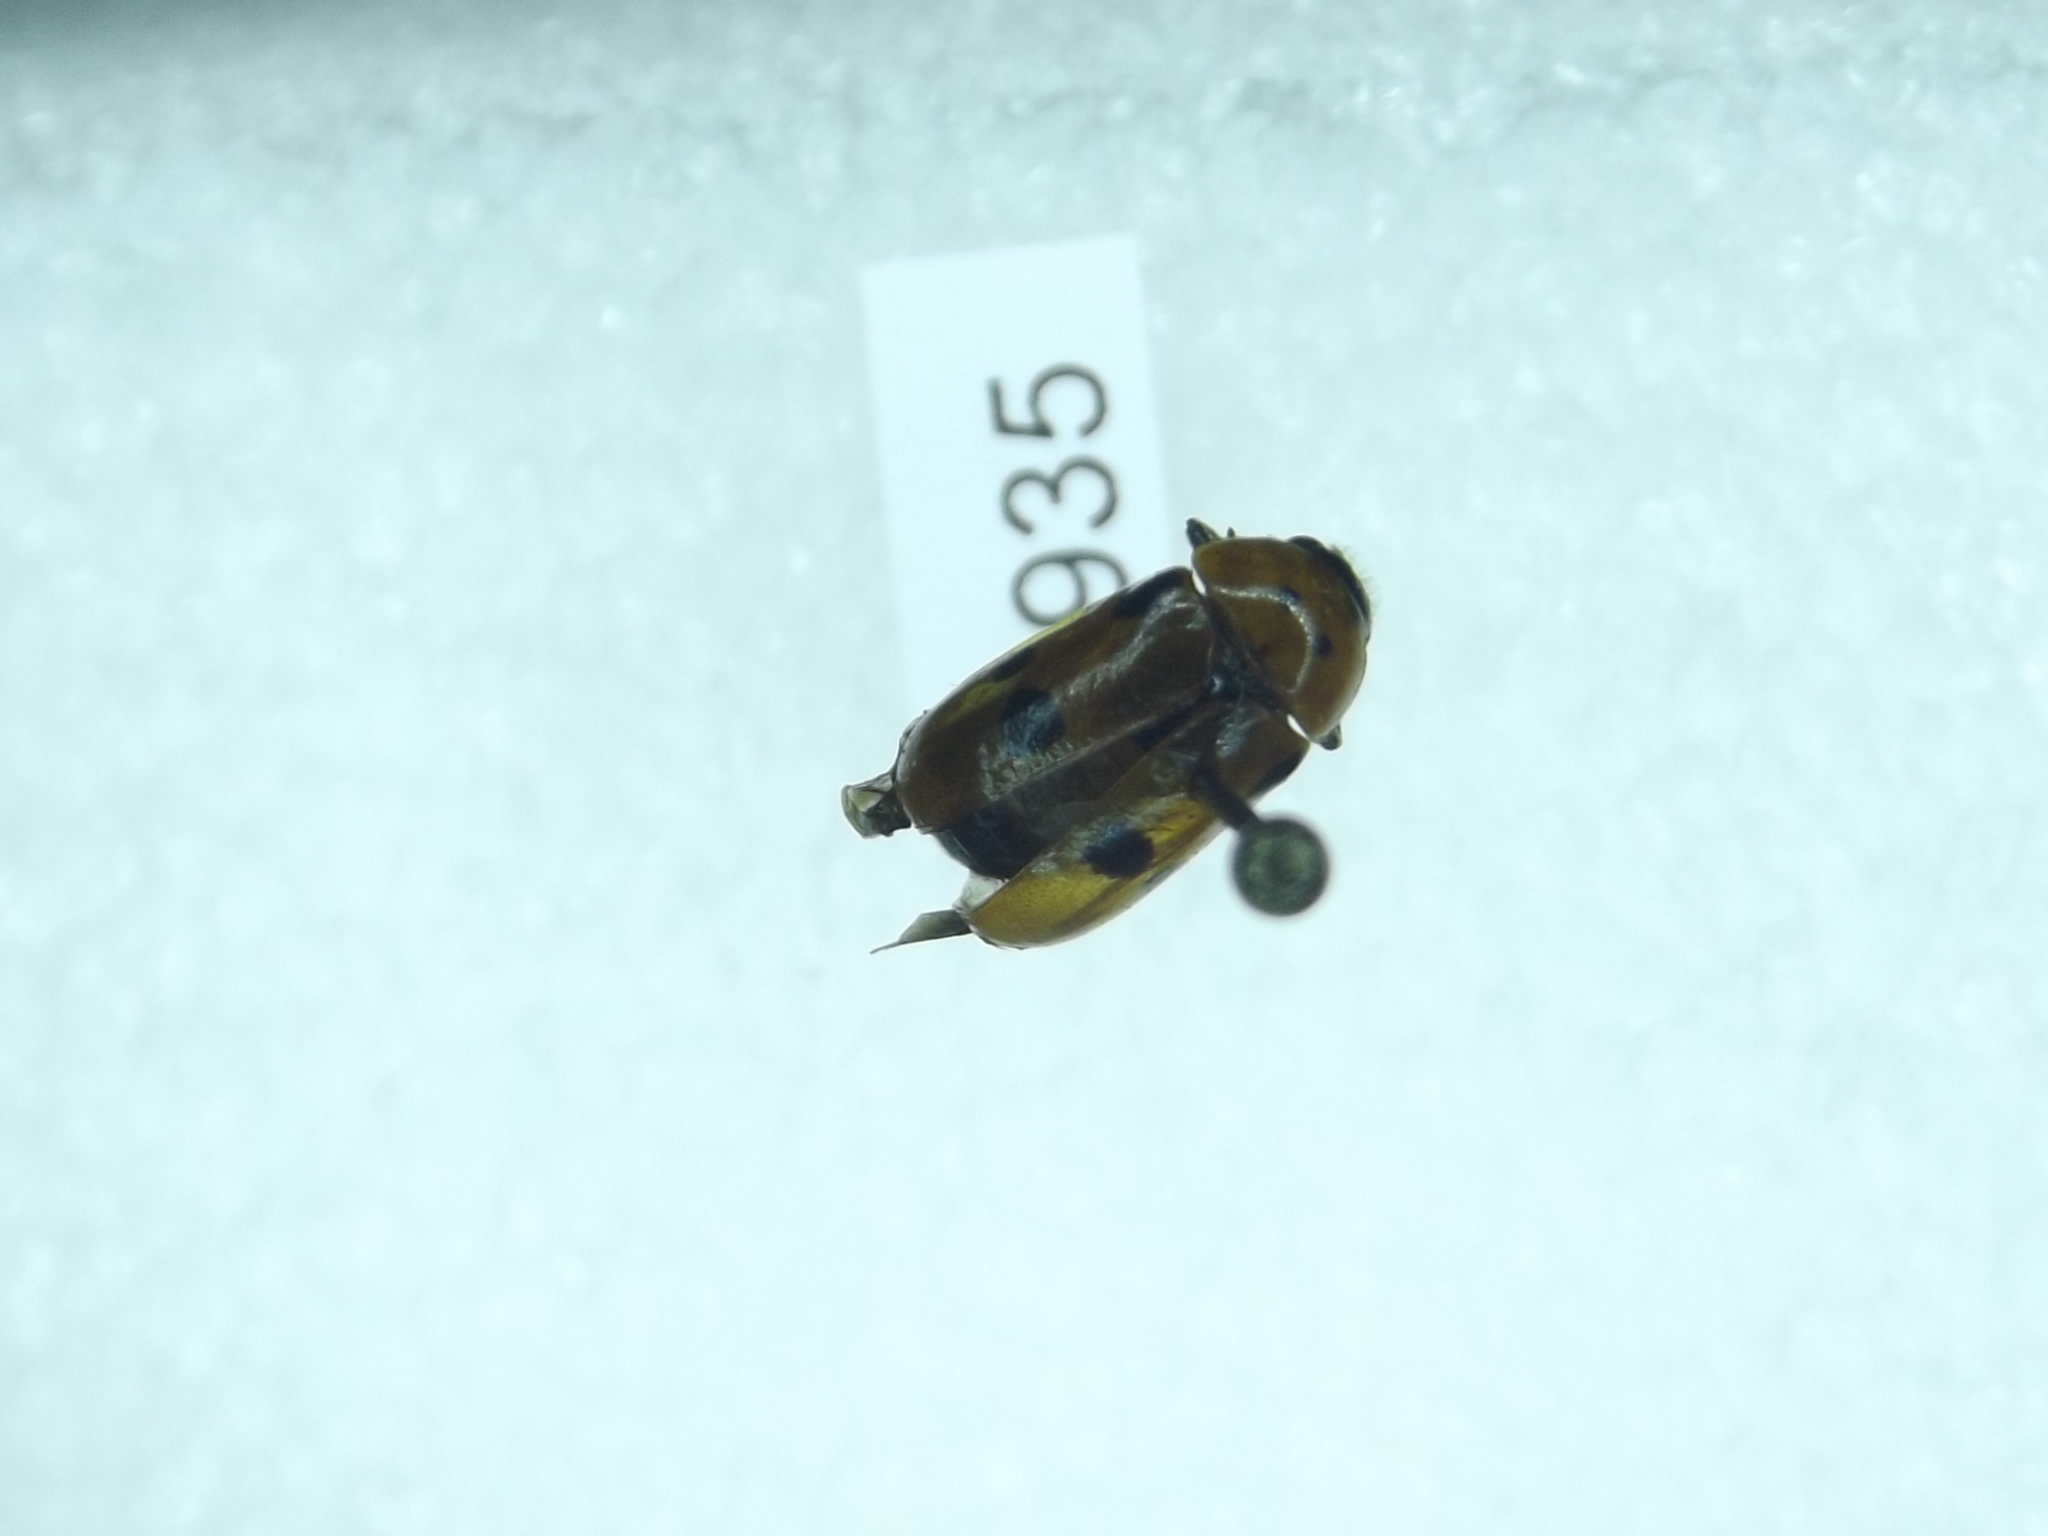Clytra_novempunctata: (819, 505, 1390, 975)
